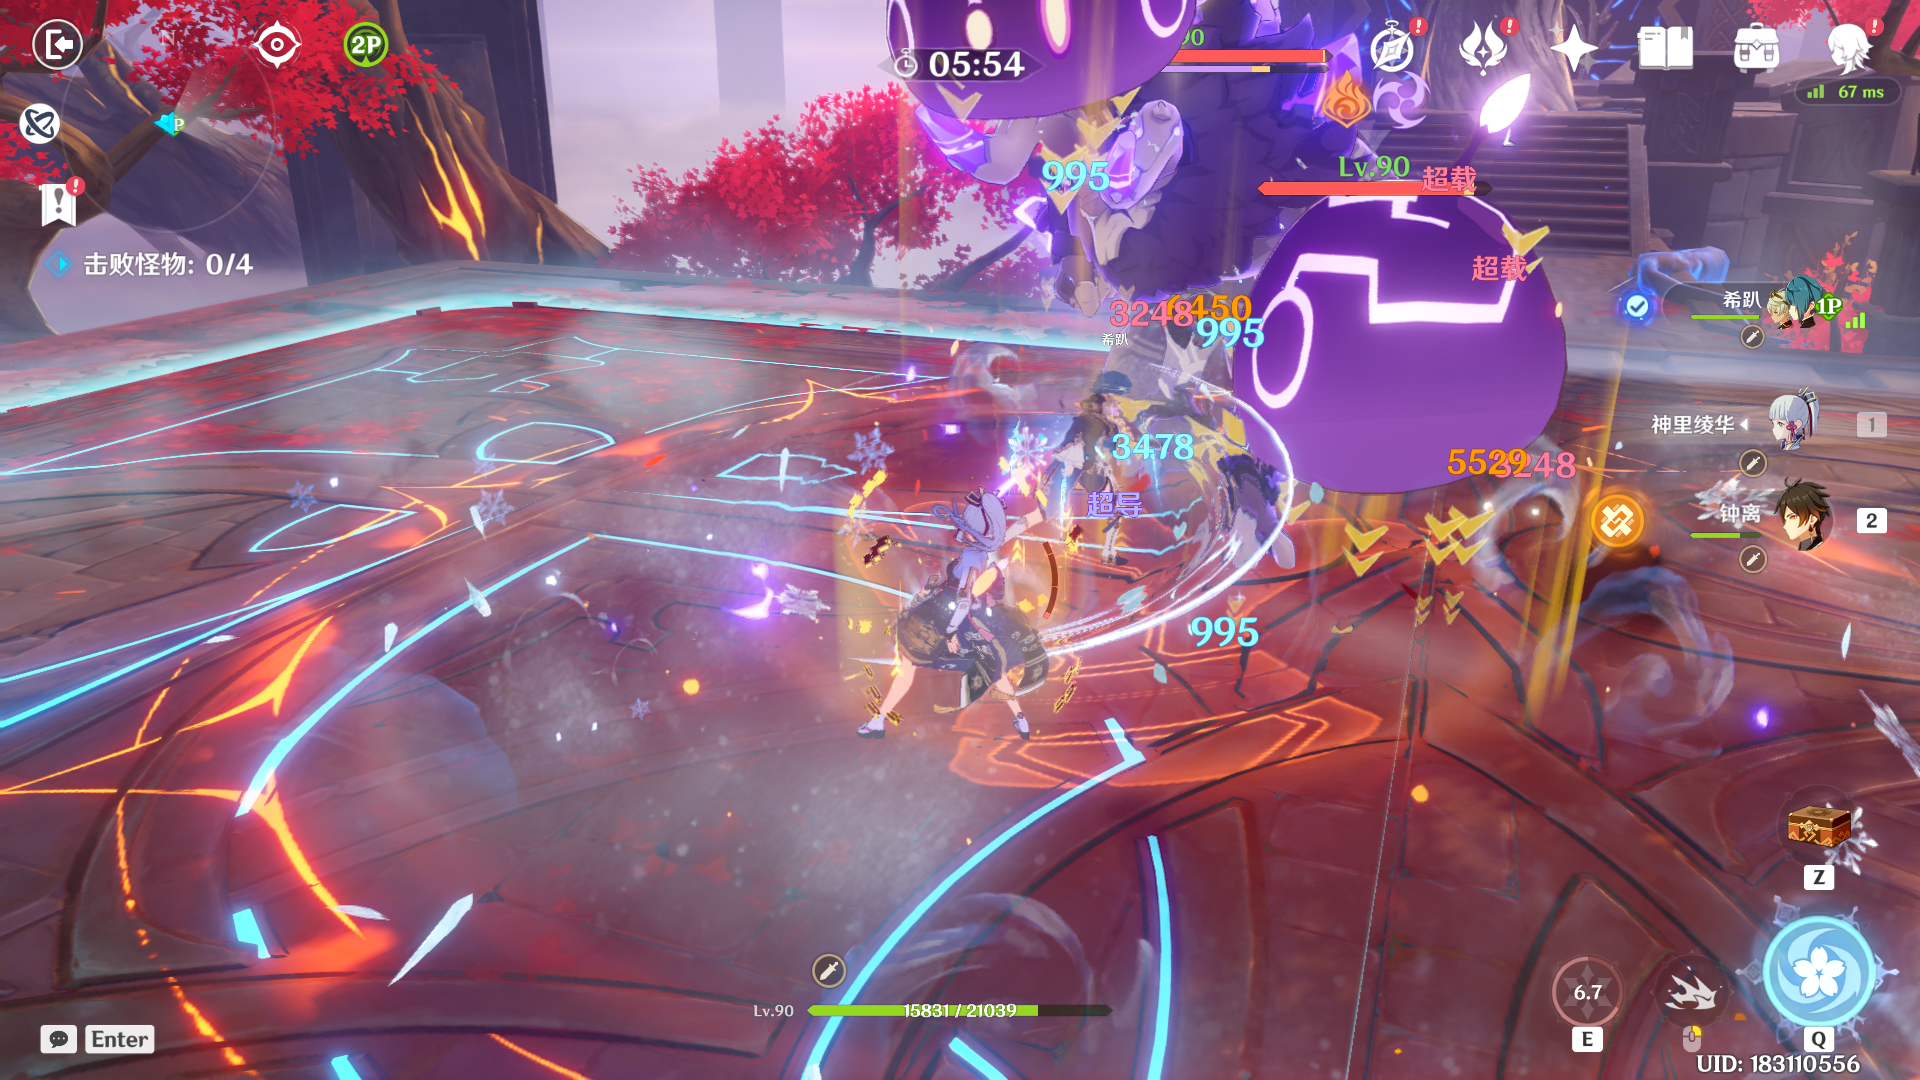character: (802, 463, 1080, 804)
slime: (1218, 170, 1588, 531), (868, 1, 1212, 138)
